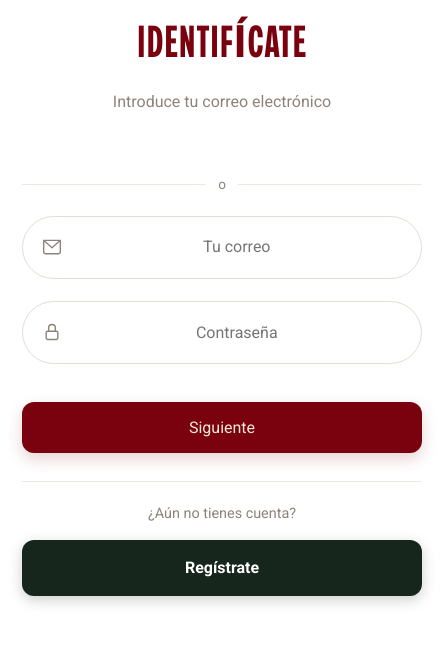
Scenario: Login page › shows validation error when password is empty
This screenshot has width=445, height=647.
Type "a@b.com" into the field with placeholder "Tu correo". click: (237, 247)
box: [72,223,402,271]
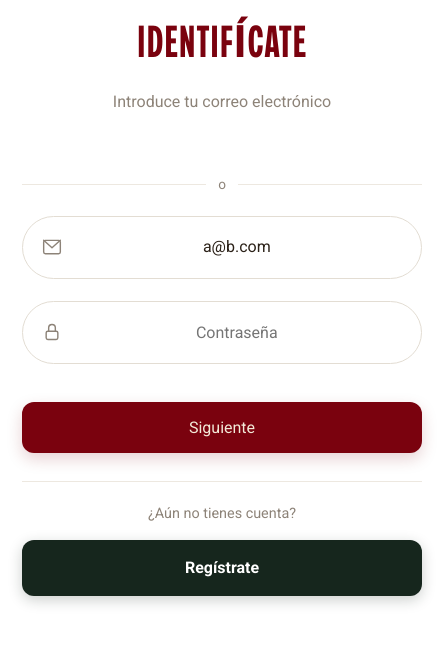
Submit the form with class "datos-form", box [22,216,422,453]
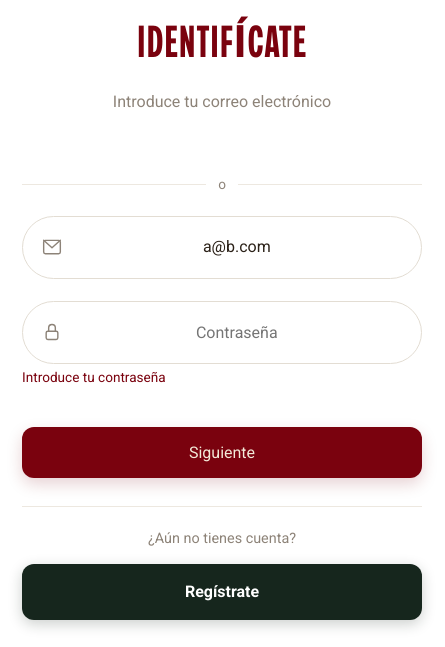
Check: the text "Introduce tu contraseña" is shown, box [22,369,166,385]
